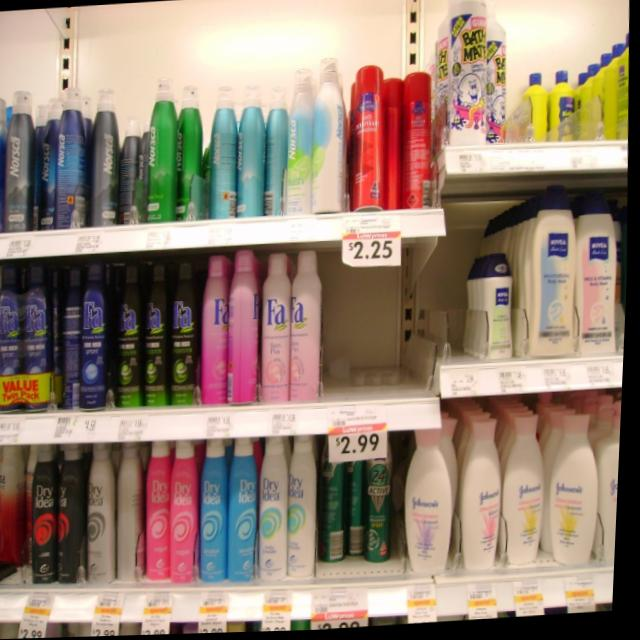q130: (288, 249, 335, 398), (258, 245, 296, 401)
